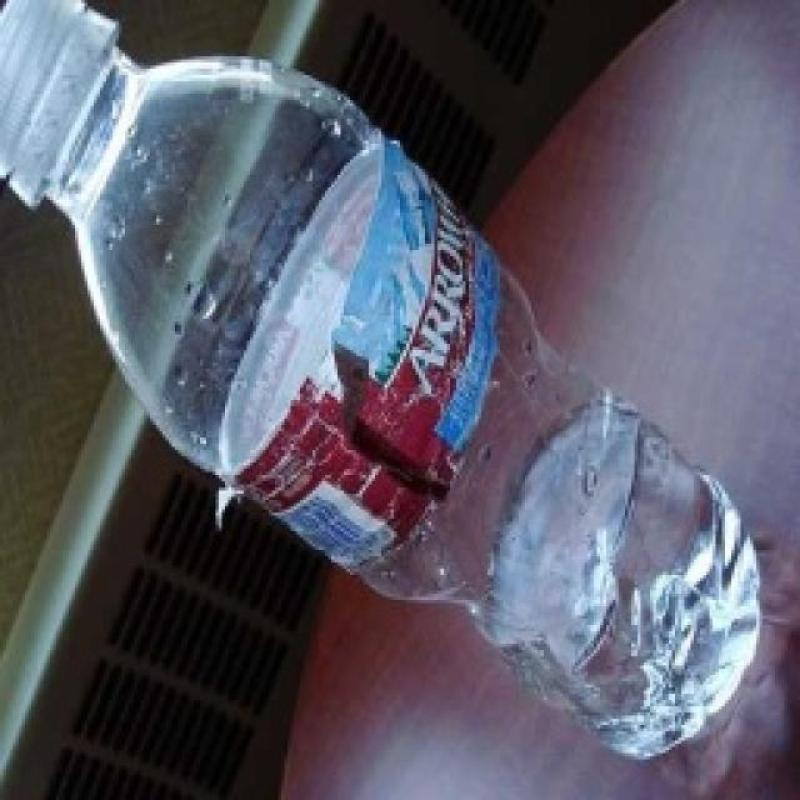botella: (0, 0, 762, 760)
